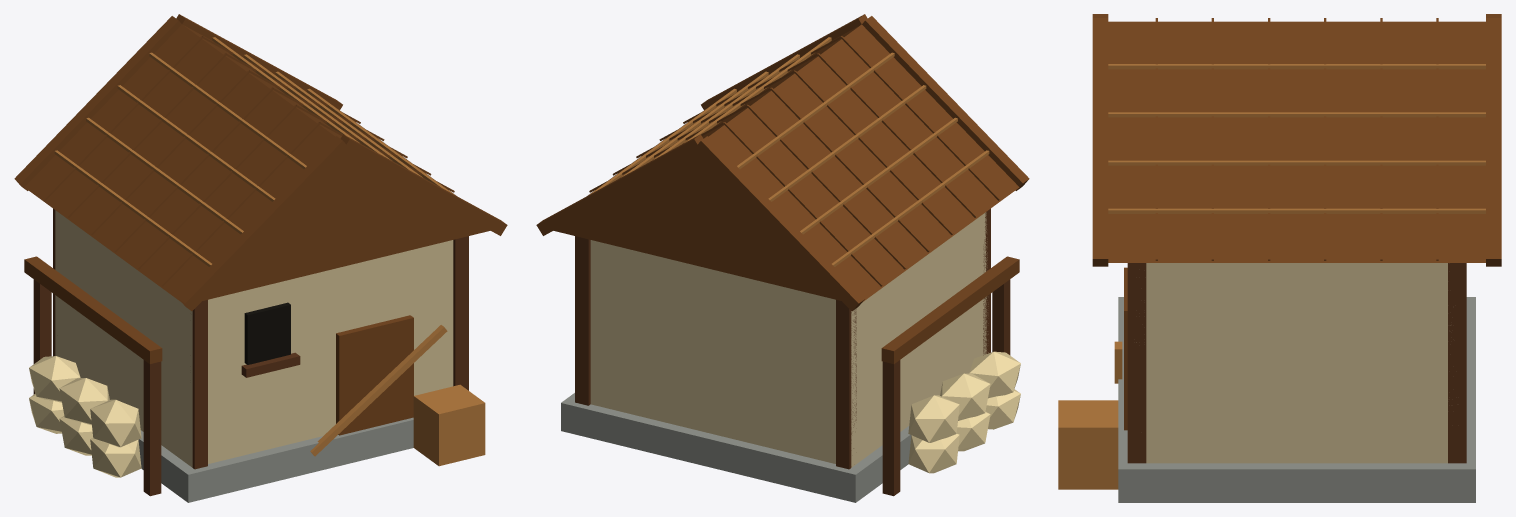
The model's file is farm.glb.
3 views of the same model, side by side, from view 1: azimuth 30°, elevation 25°; view 2: azimuth 150°, elevation 25°; view 3: azimuth 270°, elevation 25° (orthographic). The views are drawn at different scales.
Visible parts, largest first — view 1: Bargeboard.002, Farmhouse walls, Tile course.009, Awning post, Foundation.001, Grain sack.002, Loft window; view 2: Bargeboard.002, Farmhouse walls, Foundation.001, Awning post, Grain sack.002, Tile course.009; view 3: Bargeboard.002, Farmhouse walls, Foundation.001, Tile course.009, Awning post.
Part boxes in pixels (<box>): Bargeboard.002: <box>14,14,507,435</box>; Farmhouse walls: <box>55,210,453,467</box>; Tile course.009: <box>54,37,485,466</box>; Awning post: <box>33,208,468,496</box>; Foundation.001: <box>138,417,413,502</box>; Grain sack.002: <box>29,356,141,477</box>; Loft window: <box>244,302,290,364</box>; Bargeboard.002: <box>536,14,1029,363</box>; Farmhouse walls: <box>590,212,988,467</box>; Foundation.001: <box>561,393,911,502</box>; Awning post: <box>575,208,1010,496</box>; Grain sack.002: <box>908,351,1020,473</box>; Tile course.009: <box>589,37,989,266</box>; Bargeboard.002: <box>1092,14,1501,430</box>; Farmhouse walls: <box>1136,263,1450,463</box>; Foundation.001: <box>1118,297,1475,502</box>; Tile course.009: <box>1058,64,1485,489</box>; Awning post: <box>1127,263,1466,463</box>.
Bounding box in the file's own units: 3.48 × 3.09 × 3.1.
